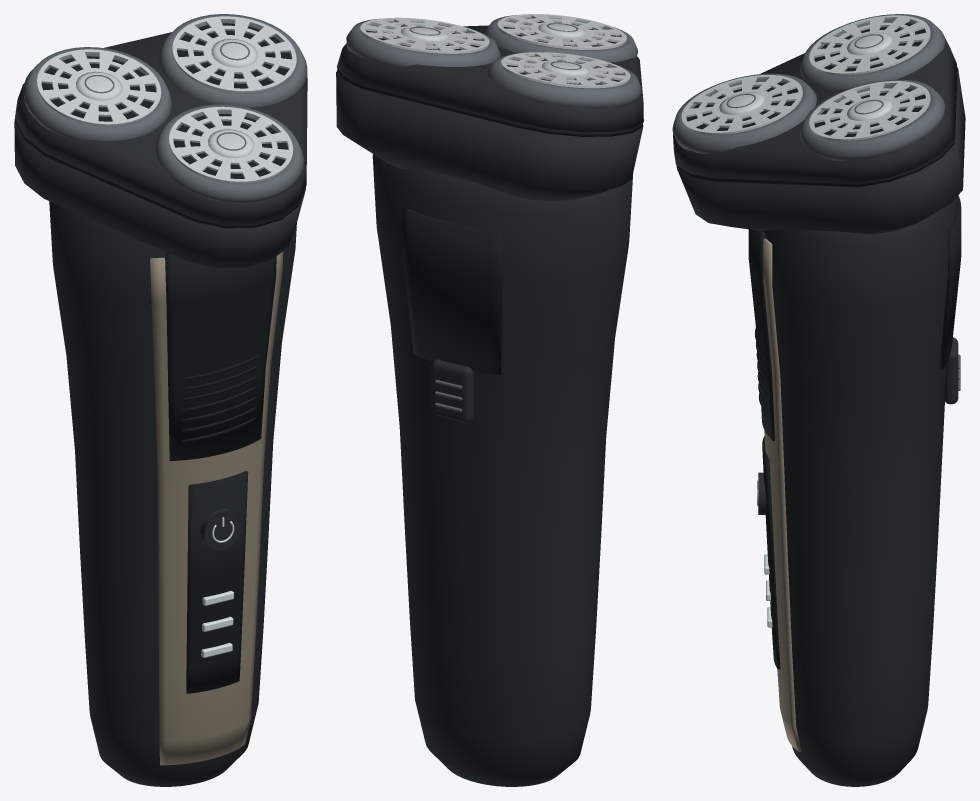
3 views of the same model, side by side, from view 1: azimuth 30°, elevation 25°; view 2: azimuth 150°, elevation 25°; view 3: azimuth 270°, elevation 25° (orthographic). The views are drawn at different scales.
Visible parts, largest first — view 1: Contoured full-depth handle, Warm front bezel, Upper textured grip, Rounded triangular upper carrier, Rounded triangular lower head, Inset front control panel, Rotor 0 perforated stainless foil, Rotor 1 perforated stainless foil, Rotor 2 perforated stainless foil, Rotor 2 beveled collar, Rotor 0 beveled collar, Rotor 1 beveled collar (+8 smaller); view 2: Contoured full-depth handle, Rounded triangular lower head, Closed rear trimmer cover, Rounded triangular upper carrier, Rotor 0 beveled collar, Rotor 0 perforated stainless foil, Rotor 1 perforated stainless foil, Rotor 2 perforated stainless foil, Rotor 1 beveled collar, Rear trimmer release, Rotor 2 beveled collar, Closed head perimeter seam (+2 smaller); view 3: Contoured full-depth handle, Rounded triangular lower head, Rounded triangular upper carrier, Warm front bezel, Rotor 0 perforated stainless foil, Rotor 1 perforated stainless foil, Rotor 2 perforated stainless foil, Rotor 1 beveled collar, Rotor 2 beveled collar, Rotor 0 beveled collar, Upper textured grip, Closed rear trimmer cover (+9 smaller).
Boxes of the visible parts, box(x1,y1,x2,y2) form: Contoured full-depth handle: box(49, 201, 296, 786); Warm front bezel: box(150, 251, 283, 765); Upper textured grip: box(165, 253, 276, 460); Rounded triangular upper carrier: box(15, 32, 307, 224); Rounded triangular lower head: box(14, 119, 305, 267); Inset front control panel: box(186, 471, 248, 693); Rotor 0 perforated stainless foil: box(36, 49, 161, 125); Rotor 1 perforated stainless foil: box(172, 16, 296, 92); Rotor 2 perforated stainless foil: box(168, 106, 293, 183); Rotor 2 beveled collar: box(155, 104, 303, 203); Rotor 0 beveled collar: box(23, 47, 171, 140); Rotor 1 beveled collar: box(159, 14, 307, 107); Contoured full-depth handle: box(372, 154, 633, 786); Rounded triangular lower head: box(336, 71, 643, 201); Closed rear trimmer cover: box(402, 207, 503, 374); Rounded triangular upper carrier: box(337, 25, 643, 132); Rotor 0 beveled collar: box(487, 53, 641, 108); Rotor 0 perforated stainless foil: box(501, 52, 630, 88); Rotor 1 perforated stainless foil: box(360, 17, 489, 53); Rotor 2 perforated stainless foil: box(497, 14, 626, 49); Rotor 1 beveled collar: box(346, 19, 500, 66); Rear trimmer release: box(431, 359, 473, 422); Rotor 2 beveled collar: box(484, 15, 637, 62); Closed head perimeter seam: box(337, 68, 642, 136); Contoured full-depth handle: box(763, 196, 957, 786); Rounded triangular lower head: box(676, 67, 965, 234); Rounded triangular upper carrier: box(673, 37, 956, 183); Warm front bezel: box(763, 238, 801, 751); Rotor 0 perforated stainless foil: box(809, 15, 930, 75); Rotor 1 perforated stainless foil: box(809, 81, 930, 140); Rotor 2 perforated stainless foil: box(681, 75, 802, 134); Rotor 1 beveled collar: box(800, 79, 944, 160); Rotor 2 beveled collar: box(672, 73, 816, 153); Rotor 0 beveled collar: box(800, 14, 944, 89); Upper textured grip: box(748, 229, 774, 441); Closed rear trimmer cover: box(939, 195, 961, 368).
Size of the model in its own units: 6.49 by 16.1 by 6.04.
